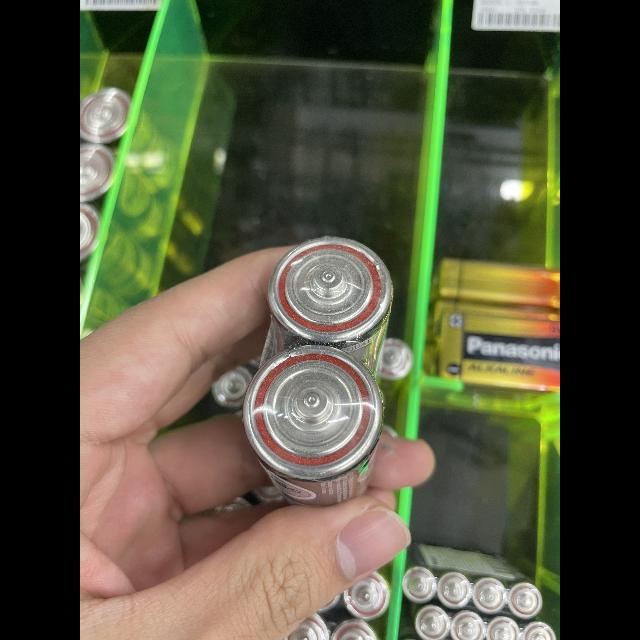battery: (236, 343, 394, 518), (256, 221, 394, 381), (434, 237, 560, 393), (80, 80, 138, 274), (397, 533, 553, 603), (265, 564, 399, 640), (400, 612, 560, 640)
